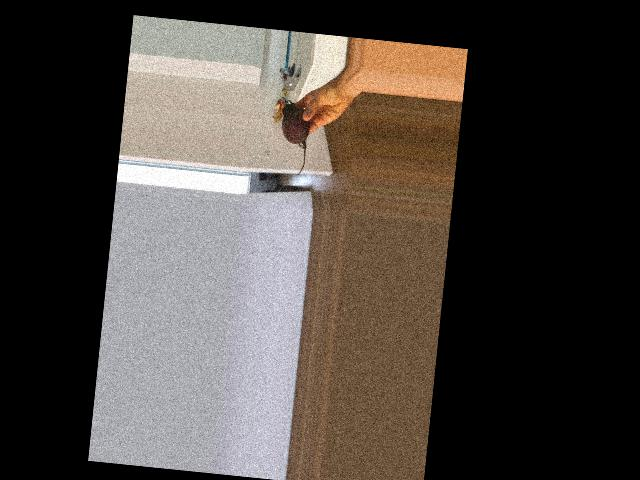beet: (276, 100, 312, 176)
